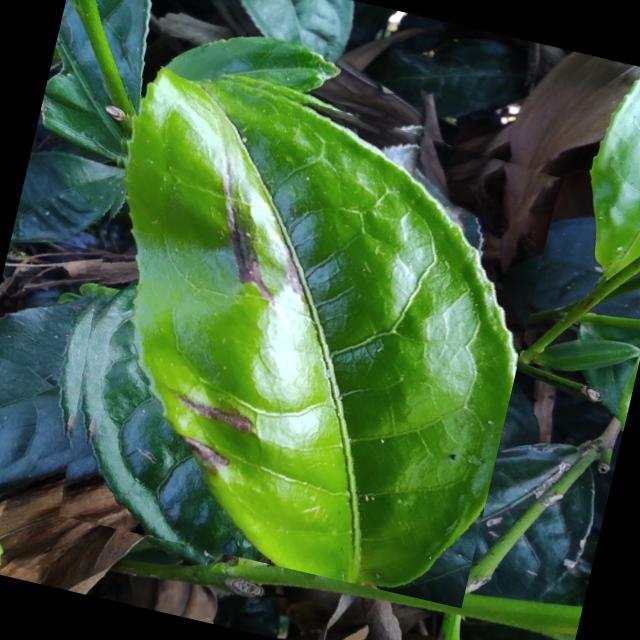Category B(2-4 days): (31, 49, 567, 607)
